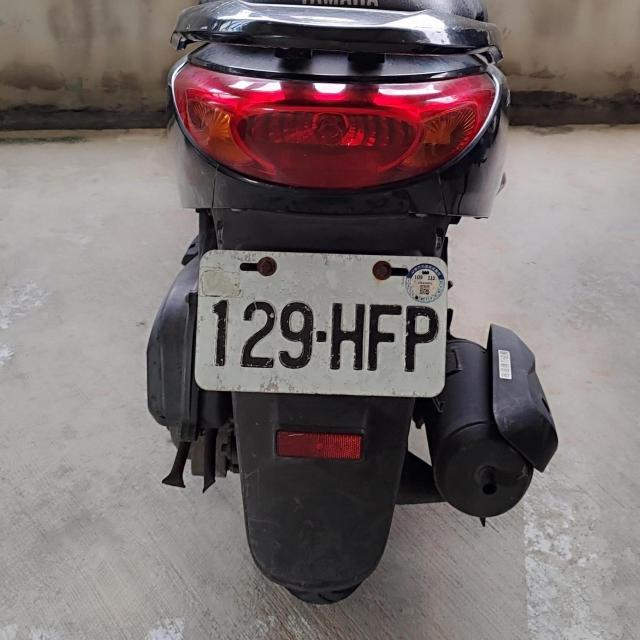W: (197, 252, 445, 396)
